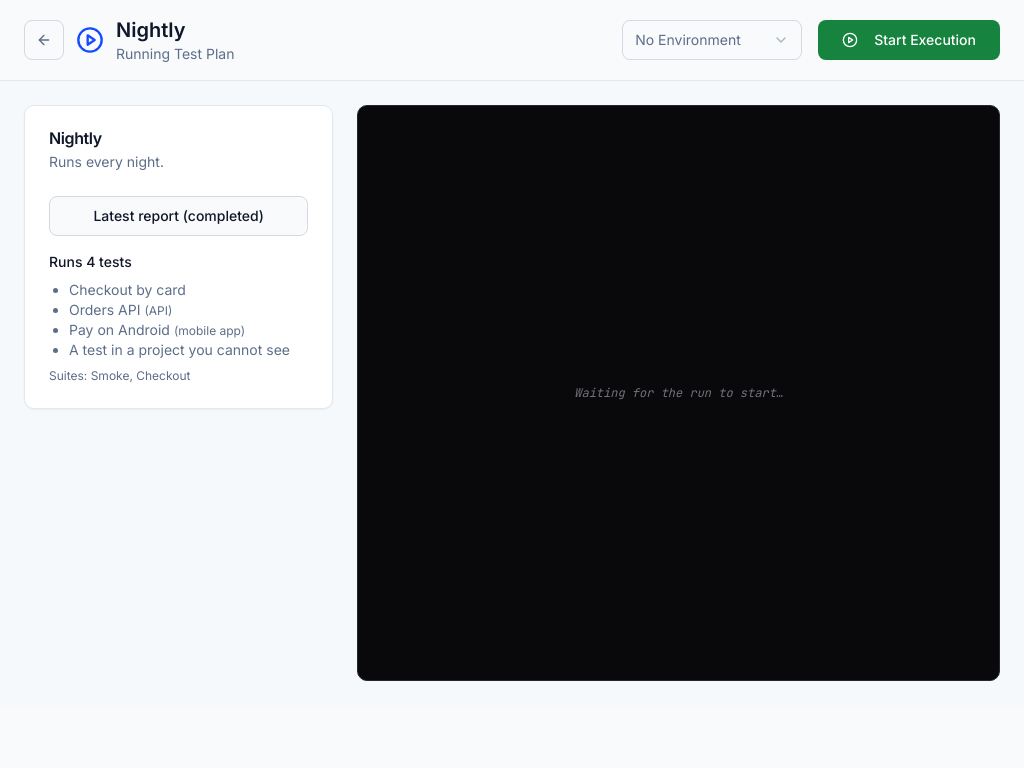
it: TestPlanExecutionPage › shows the server's refusal and keeps offering to start
Expected: the heading "Nightly" is shown, x1=116 y1=18 x2=186 y2=42
Click the button "Start Execution": x=909, y=40 x1=818 y1=20 x2=1000 y2=60
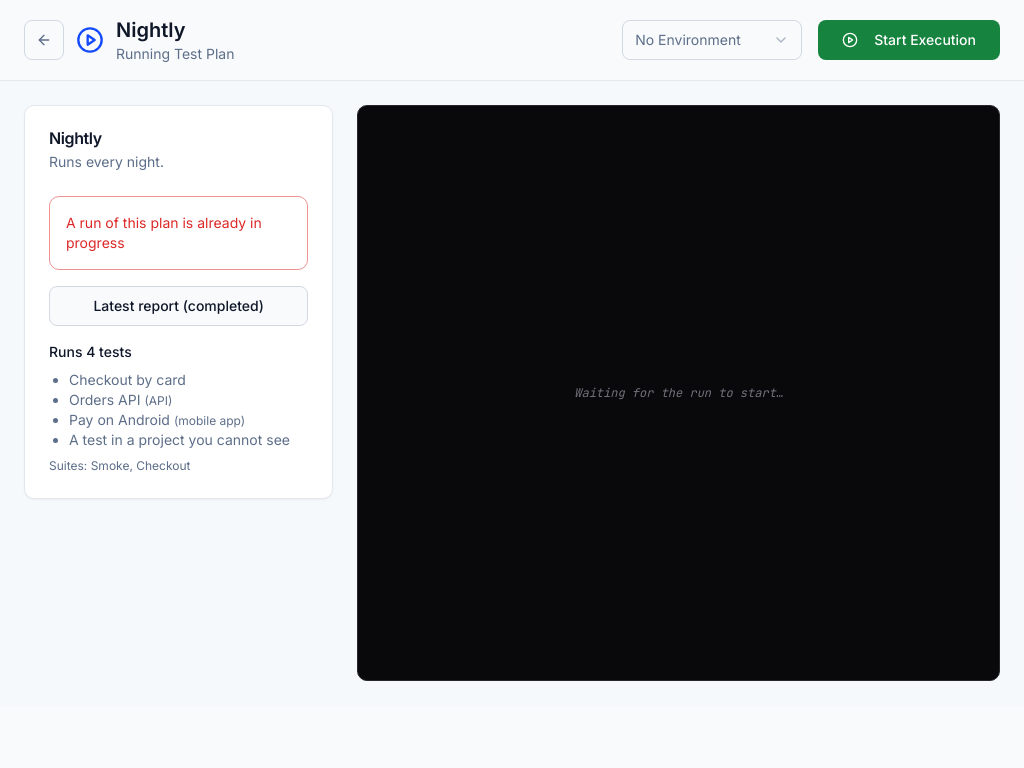
Expected: the text "Waiting for the run to start…" is shown, x1=357 y1=105 x2=1000 y2=681
Expected: the message with test id "run-start-error" reads "A run of this plan is already in progress", x1=66 y1=214 x2=262 y2=251
